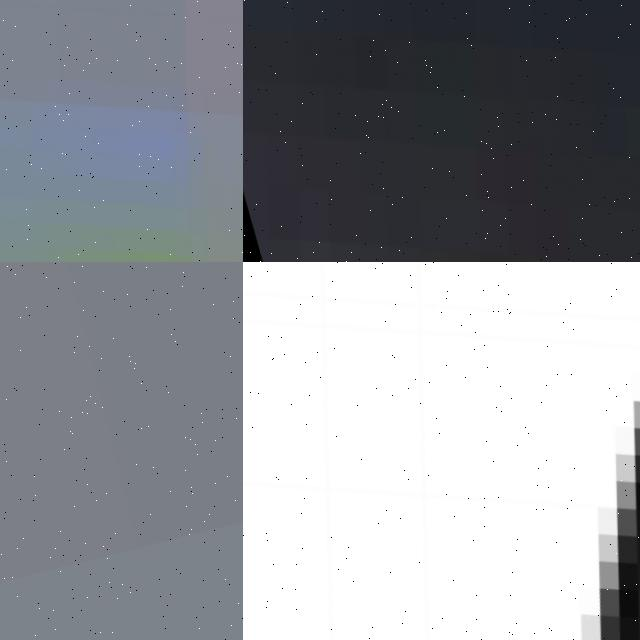0: (0, 0, 243, 262)
drone: (243, 262, 640, 640), (243, 0, 640, 262)
